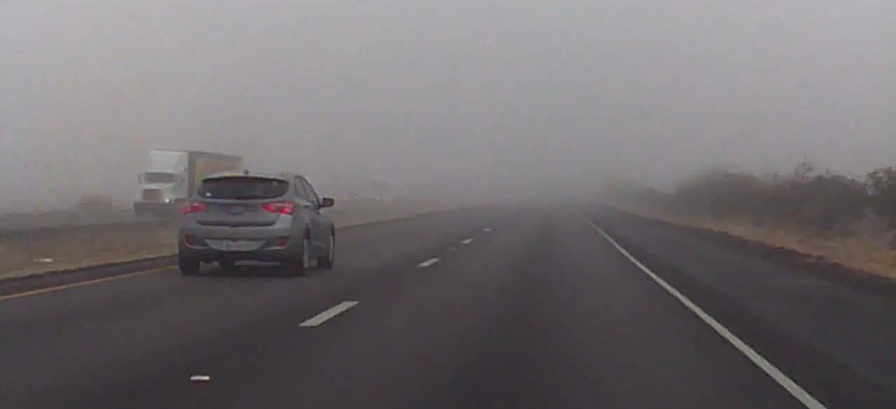bus: (133, 145, 245, 218)
car: (177, 166, 337, 277)
